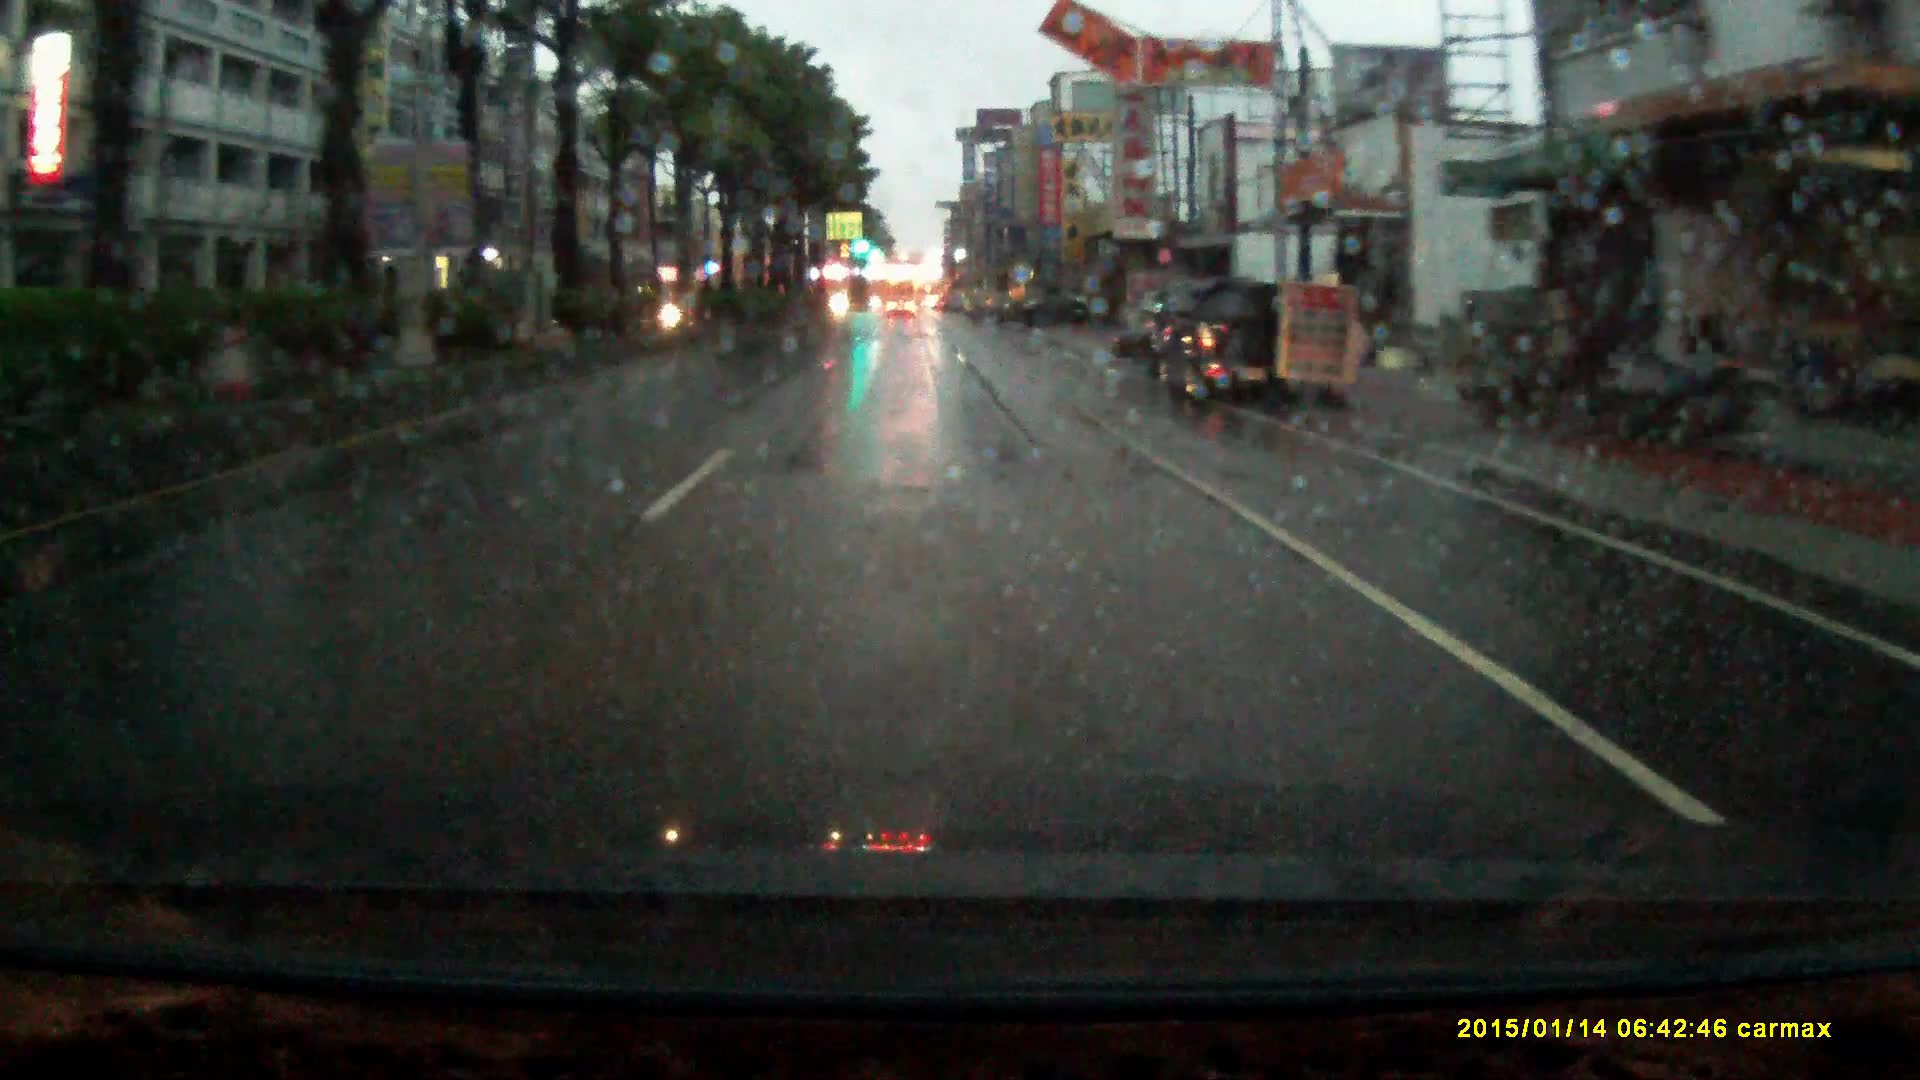vehicle: (1151, 266, 1324, 404), (887, 286, 918, 311)
